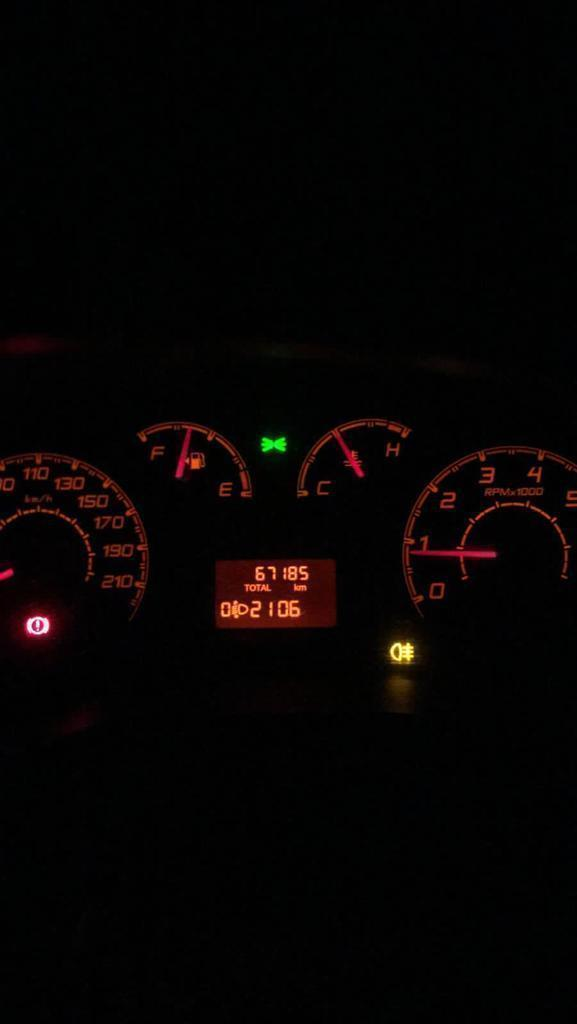0: (277, 599, 288, 618), (220, 601, 230, 618)
1: (268, 599, 273, 618), (283, 565, 287, 581)
2: (250, 599, 261, 619)
5: (299, 565, 309, 581)
6: (288, 599, 300, 618), (255, 565, 265, 580)
7: (267, 565, 277, 580)
8: (288, 564, 297, 581)
X: (299, 584, 307, 591), (243, 582, 249, 591), (266, 583, 272, 591), (255, 583, 261, 591), (249, 583, 255, 591), (293, 583, 298, 591), (261, 584, 265, 591)
odometer: (214, 557, 337, 628)
